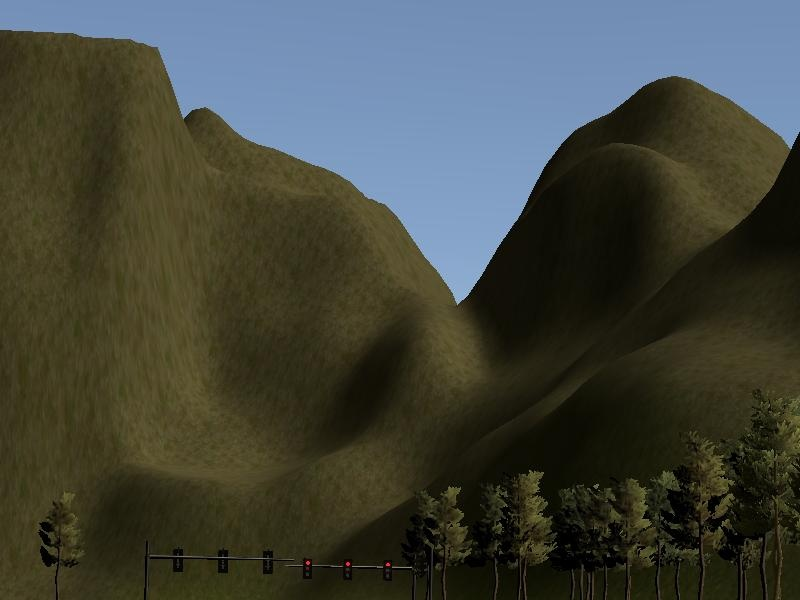red: (336, 558, 360, 585), (300, 556, 319, 582), (378, 558, 393, 582)
